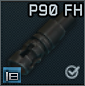FN P90 5.7x28 flash hider: (0, 0, 85, 86)
